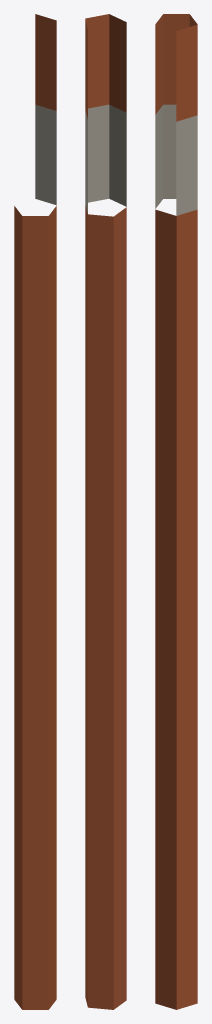
Rendered from road_pole.glb.
The picture shows the model from 3 angles, left to right: view 1: azimuth 90°, elevation 25°; view 2: azimuth 150°, elevation 25°; view 3: azimuth 270°, elevation 25°; orthographic projection.
Parts seen in each view (by area): view 1: road_pole; view 2: road_pole; view 3: road_pole.
Part boxes in pixels (<box>): road_pole: <box>14,14,56,1009</box>; road_pole: <box>85,14,126,1009</box>; road_pole: <box>155,14,197,1009</box>.
Size of the model in its own units: 0.0506 by 1.35 by 0.0532.
